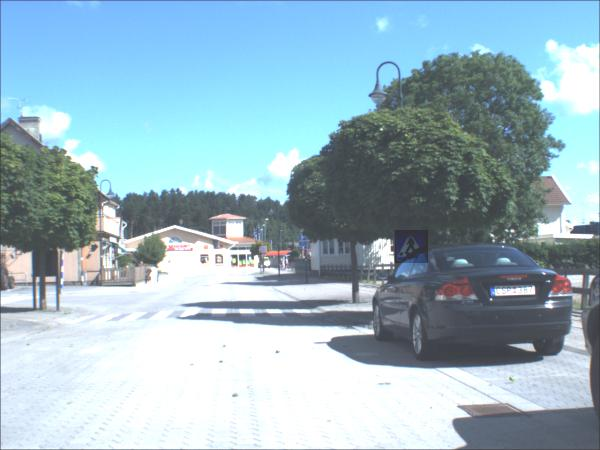NO_PARKING: (260, 247, 269, 255)
PEDESTRIAN_CROSSING: (397, 231, 431, 265)
